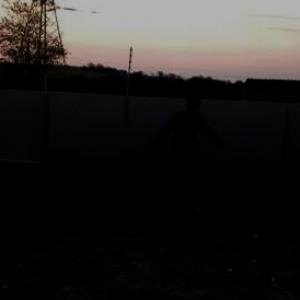land: (143, 101, 229, 220)
